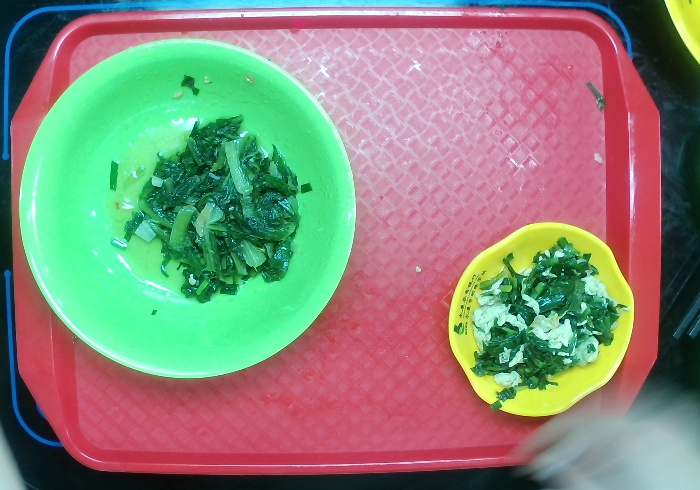YKMZ-Huang_Se_Ao_Bian_Wan: (444, 220, 636, 420)
YKMZ-Lv_Se_Tang_Wan: (20, 36, 357, 381)
